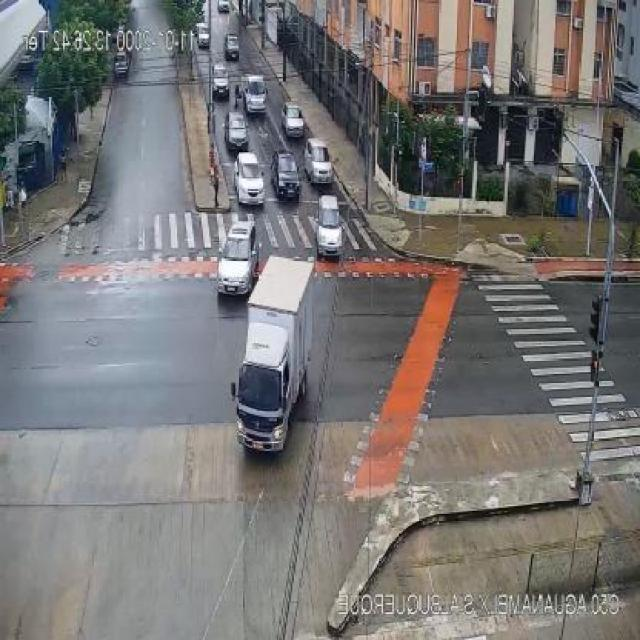Car: (216, 217, 261, 300), (314, 190, 346, 260), (233, 152, 264, 213), (270, 150, 302, 200), (305, 137, 337, 185), (224, 110, 250, 154), (279, 102, 306, 137), (211, 63, 232, 98), (224, 32, 242, 62)
Truck: (228, 255, 320, 463)
Van: (241, 74, 270, 117)
